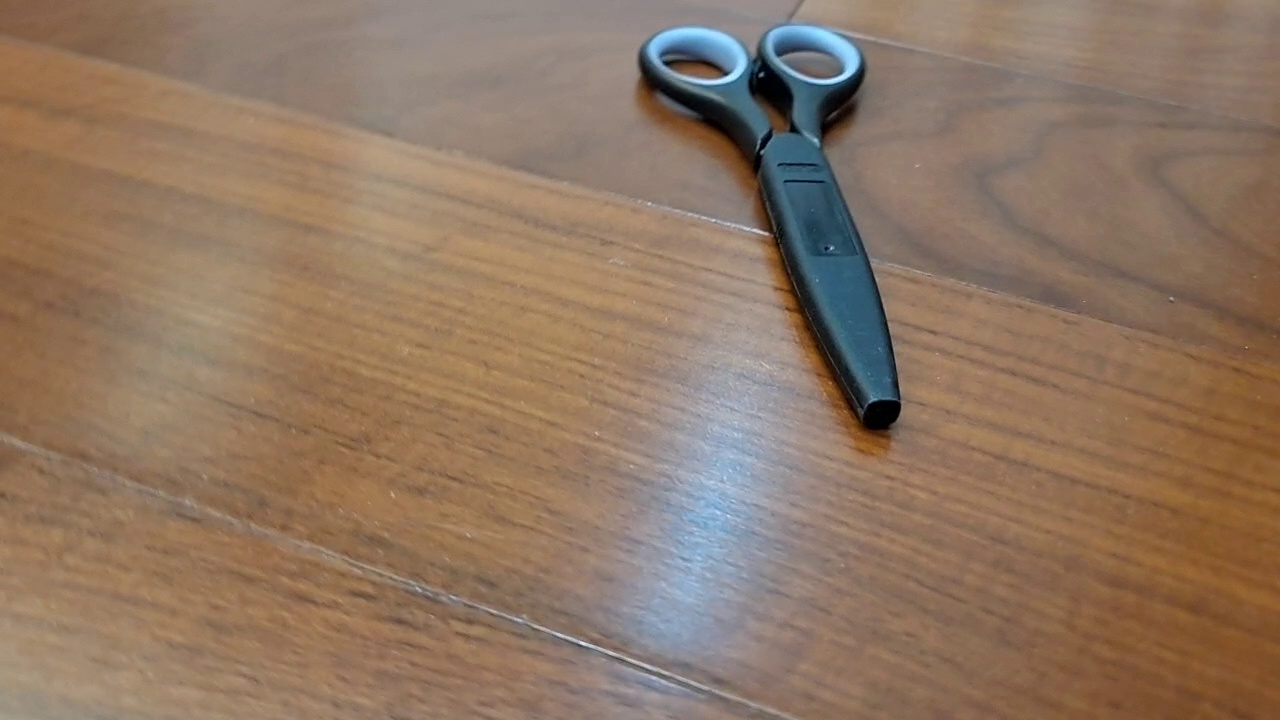scissors: (635, 22, 902, 431)
